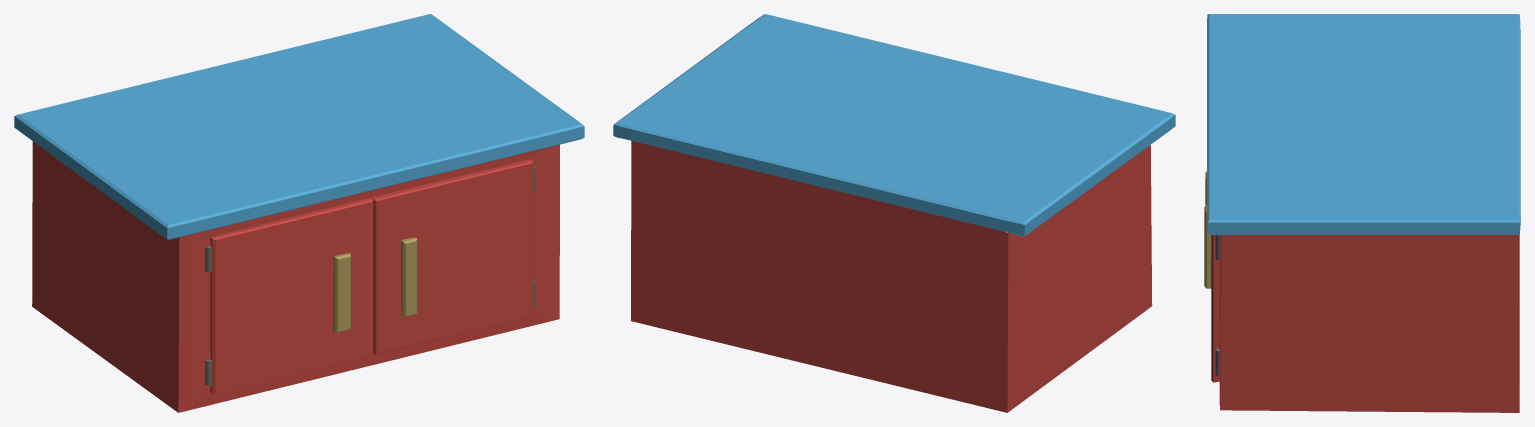
The model's file is LudumDareCabinetSmall.fbx.
3 views of the same model, side by side, from view 1: azimuth 30°, elevation 25°; view 2: azimuth 150°, elevation 25°; view 3: azimuth 270°, elevation 25° (orthographic). The views are drawn at different scales.
Visible parts, largest first — view 1: Cabinet Small.002, Cabinet Small, Cabinet Small.004, Cabinet Small.005; view 2: Cabinet Small, Cabinet Small.002; view 3: Cabinet Small.002, Cabinet Small, Cabinet Small.005.
Boxes of the visible parts, <box> form: Cabinet Small.002: <box>14,14,584,239</box>; Cabinet Small: <box>32,141,559,412</box>; Cabinet Small.004: <box>210,198,373,393</box>; Cabinet Small.005: <box>370,159,533,354</box>; Cabinet Small: <box>631,141,1152,412</box>; Cabinet Small.002: <box>613,14,1175,236</box>; Cabinet Small.002: <box>1207,14,1520,234</box>; Cabinet Small: <box>1219,234,1519,412</box>; Cabinet Small.005: <box>1204,204,1219,382</box>.
Bounding box in the file's own units: 116 × 52.03 × 74.21.
